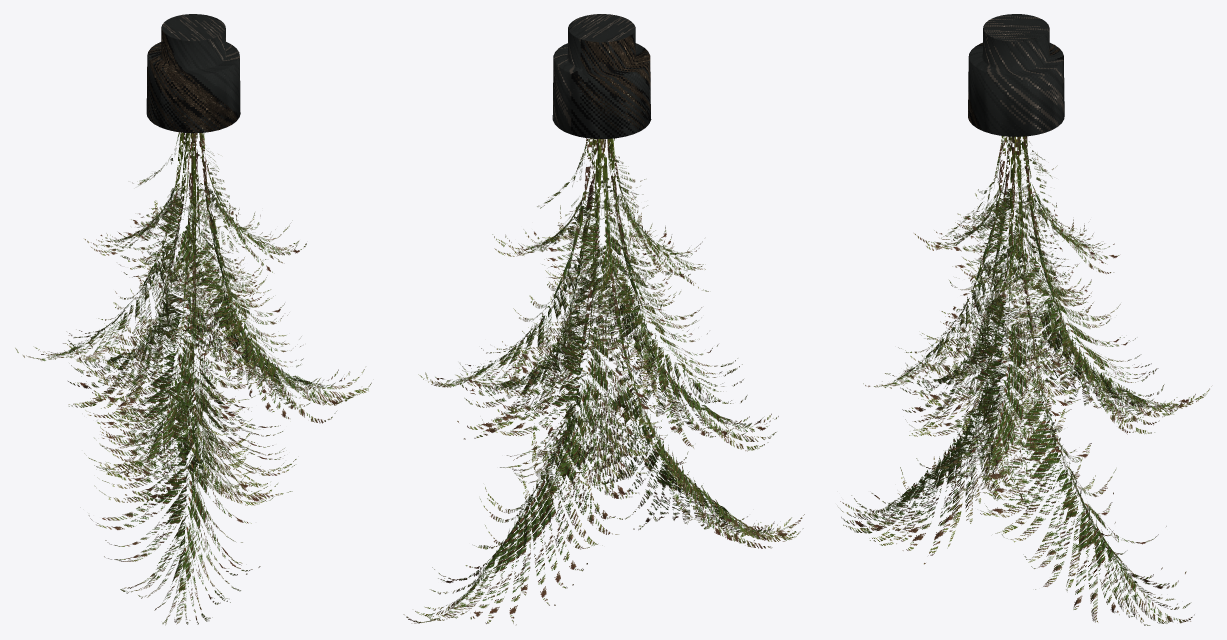
File: plant_palm.glb
3 renders of one model, left to right at view 1: azimuth 30°, elevation 25°; view 2: azimuth 150°, elevation 25°; view 3: azimuth 270°, elevation 25°, orthographic. The views are drawn at different scales.
Visible parts, largest first — view 1: DYPSIS_LUTESCENS_DYPSIS_LUTESCENS_Mat_0, DARK_PLASTIC_POT_DARK_PLASTIC_POT_Mat_0; view 2: DYPSIS_LUTESCENS_DYPSIS_LUTESCENS_Mat_0, DARK_PLASTIC_POT_DARK_PLASTIC_POT_Mat_0; view 3: DYPSIS_LUTESCENS_DYPSIS_LUTESCENS_Mat_0, DARK_PLASTIC_POT_DARK_PLASTIC_POT_Mat_0.
Part boxes in pixels (x1,y1,x2,y2): DYPSIS_LUTESCENS_DYPSIS_LUTESCENS_Mat_0: (15, 132, 371, 625); DARK_PLASTIC_POT_DARK_PLASTIC_POT_Mat_0: (146, 14, 240, 133); DYPSIS_LUTESCENS_DYPSIS_LUTESCENS_Mat_0: (403, 138, 804, 624); DARK_PLASTIC_POT_DARK_PLASTIC_POT_Mat_0: (552, 14, 651, 138); DYPSIS_LUTESCENS_DYPSIS_LUTESCENS_Mat_0: (838, 136, 1211, 625); DARK_PLASTIC_POT_DARK_PLASTIC_POT_Mat_0: (968, 14, 1064, 136).
Size of the model in its own units: 0.7593 by 1.22 by 0.7608.
Materials: 2 (2 with a texture image).
